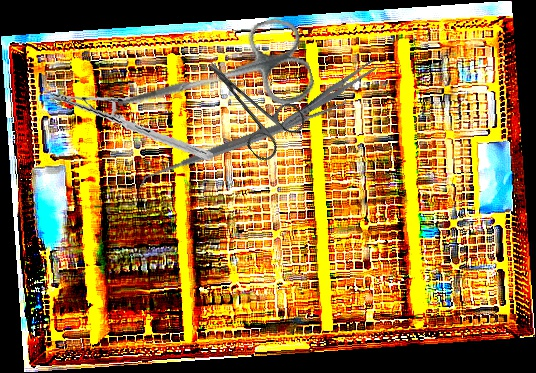Dressing Forceps: (278, 57, 380, 132)
Iris Scissors: (106, 12, 319, 150), (187, 40, 311, 165)
Needle Holder: (48, 70, 214, 182)
Spatula Surgical: (134, 92, 352, 192)
